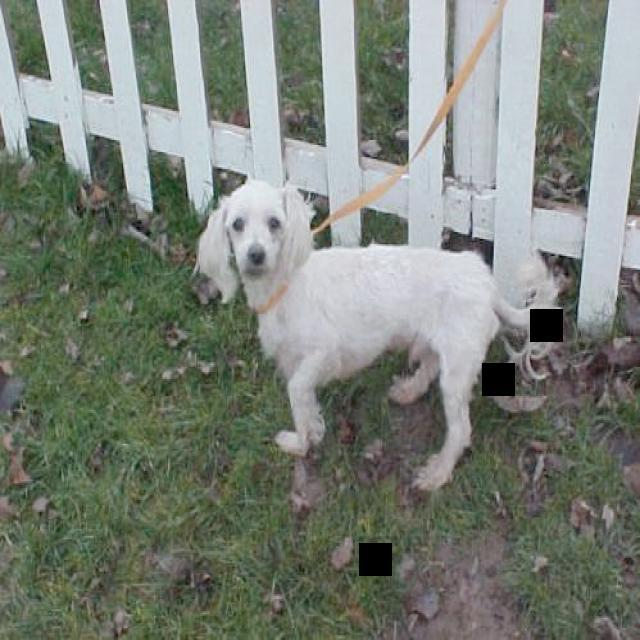adult_dog: (194, 180, 566, 493)
